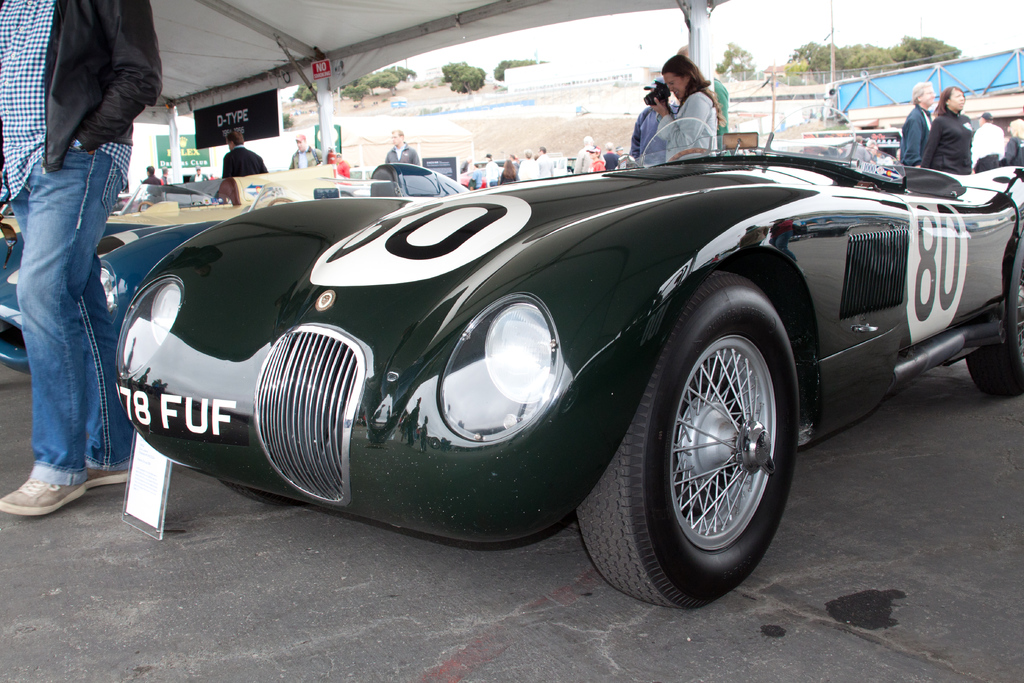Car: (63, 112, 931, 580)
